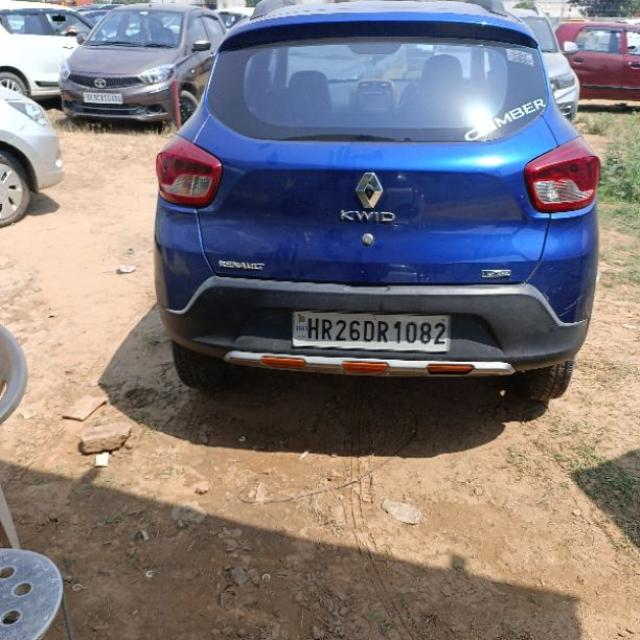license_plate: (290, 308, 450, 354), (83, 90, 122, 105)
